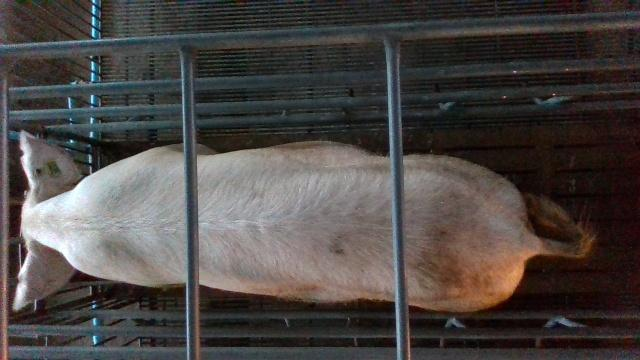sow-stand-feed: (11, 128, 595, 312)
